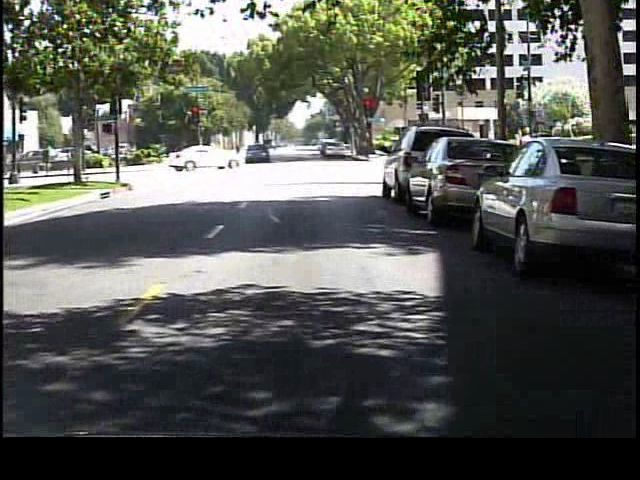person: (249, 141, 266, 170)
